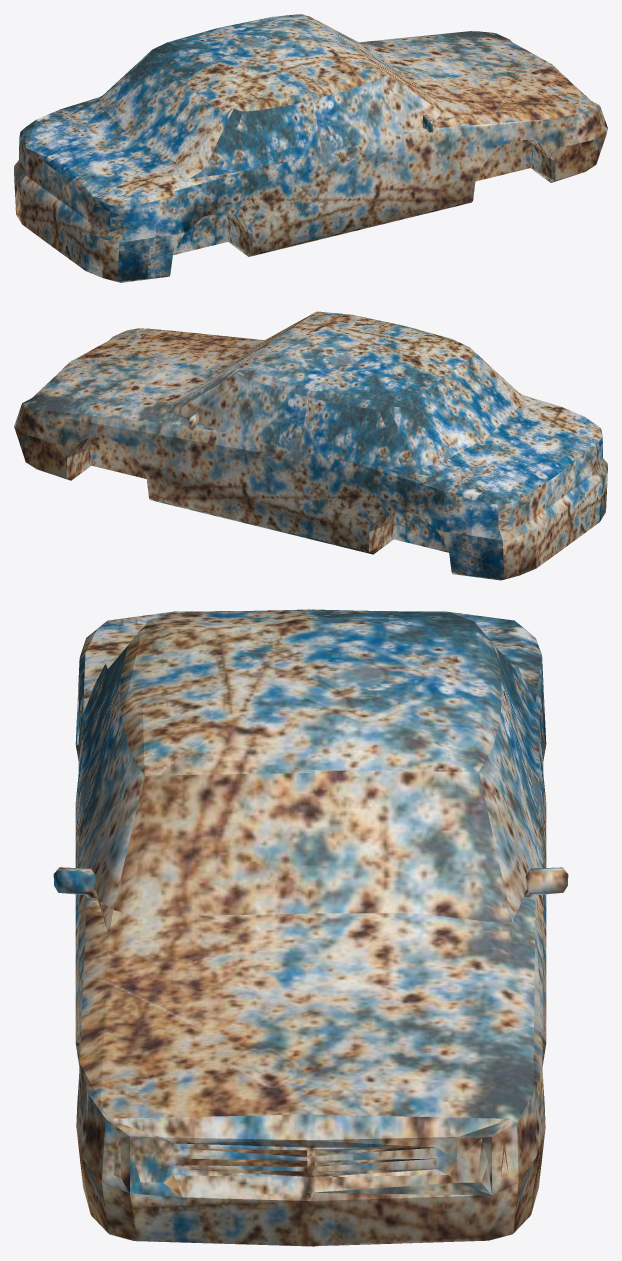
Rendered from VECHICLE_ABANDONED_CAR.fbx.
3 renders of one model, top to bottom at view 1: azimuth 30°, elevation 25°; view 2: azimuth 150°, elevation 25°; view 3: azimuth 270°, elevation 25°, orthographic. The views are drawn at different scales.
Visible parts, largest first — view 1: VECHICLE_ABANDONED_CAR; view 2: VECHICLE_ABANDONED_CAR; view 3: VECHICLE_ABANDONED_CAR.
Boxes of the visible parts, x1,y1,x2,y2 form: VECHICLE_ABANDONED_CAR: [14, 14, 607, 282]; VECHICLE_ABANDONED_CAR: [14, 311, 607, 580]; VECHICLE_ABANDONED_CAR: [53, 609, 568, 1246].
Size of the model in its own units: 471 by 129 by 204.
